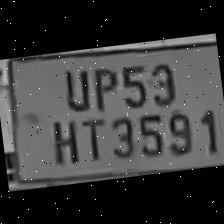1: (192, 104, 222, 156)
3: (102, 109, 136, 160), (144, 58, 180, 104)
5: (132, 107, 166, 158), (114, 59, 148, 108)
9: (162, 106, 196, 156)
H: (44, 114, 80, 168)
P: (86, 62, 119, 110)
T: (75, 113, 107, 164)
U: (54, 61, 92, 114)
